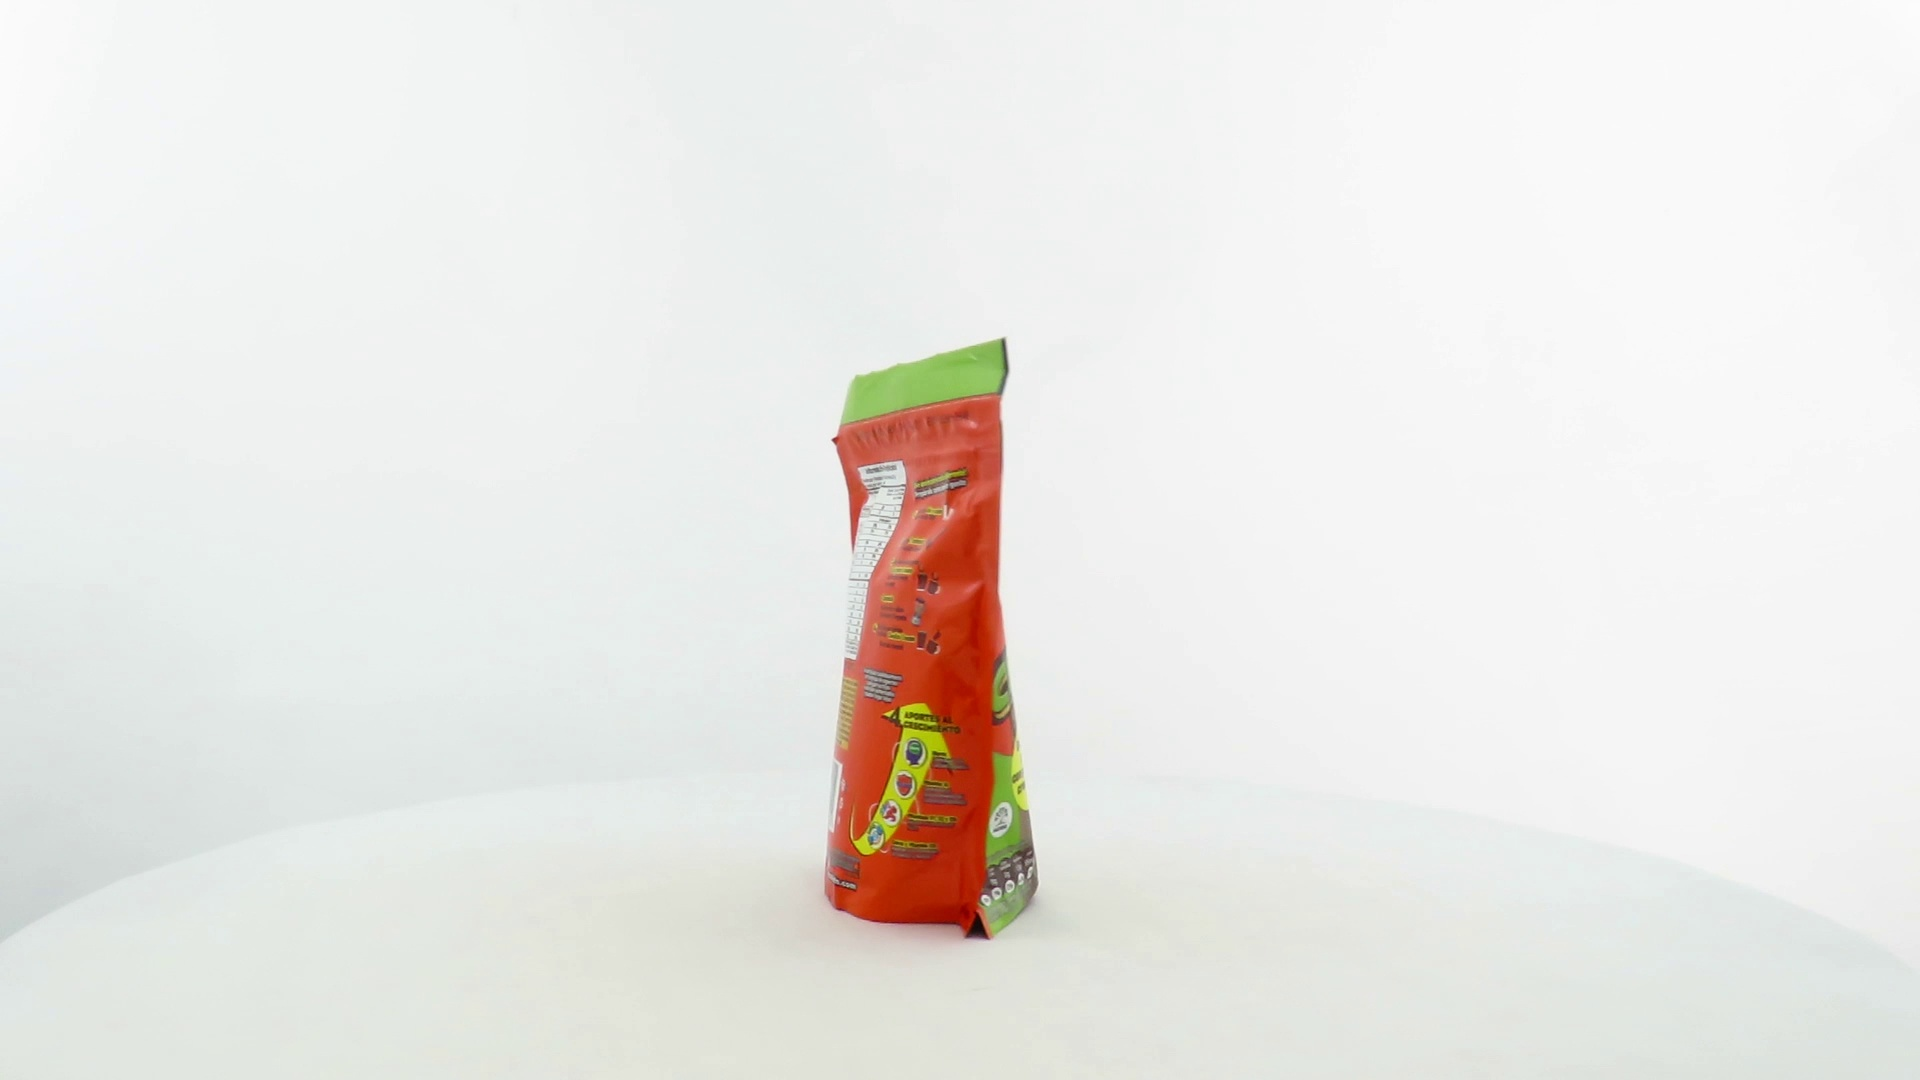COL0170102DYP10000: (819, 332, 1044, 945)
